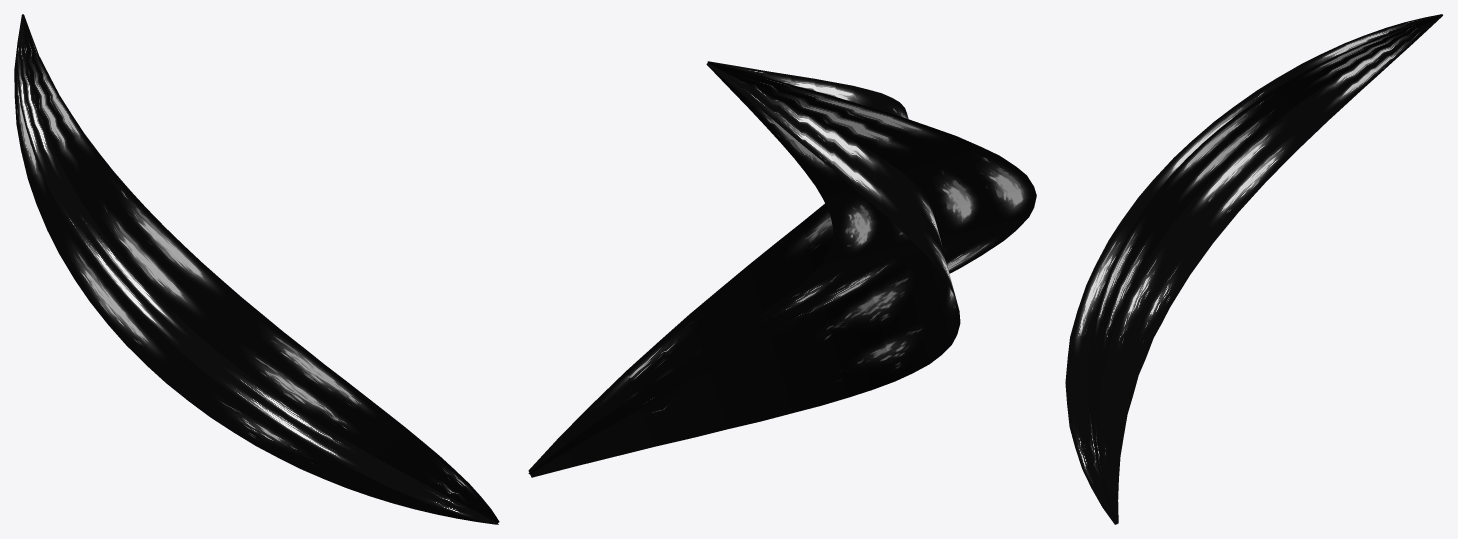
Rendered from 0407_roundqilang.glb.
3 views of the same model, side by side, from view 1: azimuth 30°, elevation 25°; view 2: azimuth 150°, elevation 25°; view 3: azimuth 270°, elevation 25° (orthographic). The views are drawn at different scales.
Bounding box in the file's own units: 1.82 × 2.2 × 1.94.
1 material, 1 textured.
